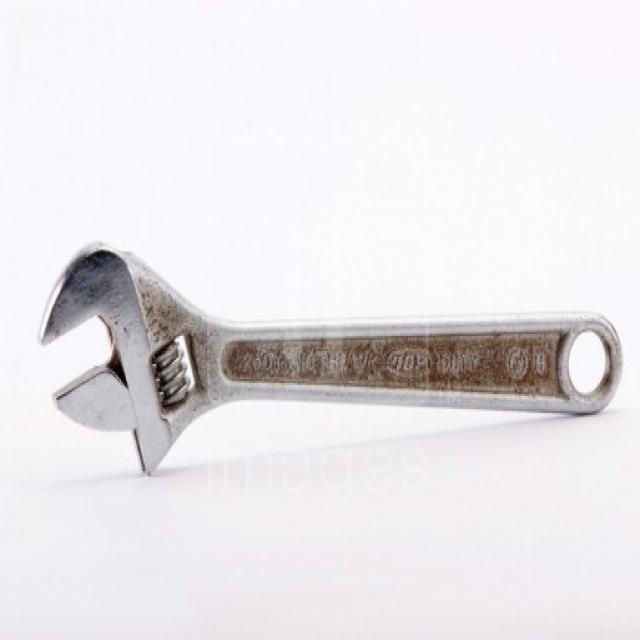wrench: (31, 223, 624, 480)
